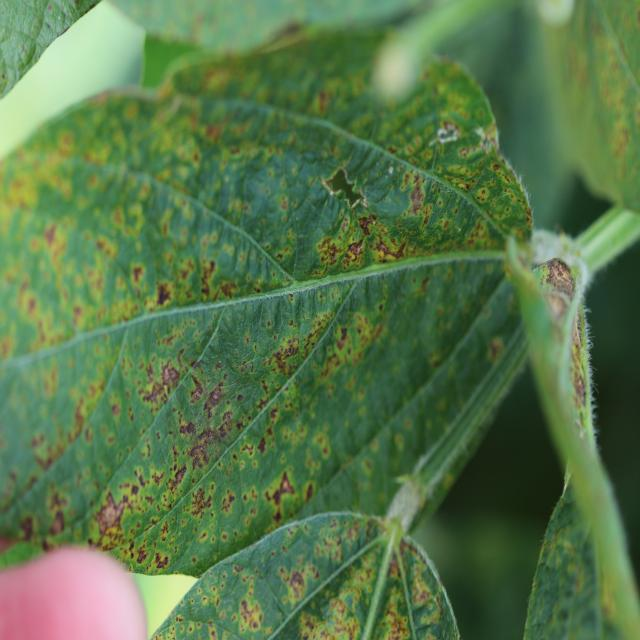Bacterial_Blight: (328, 301, 384, 373), (138, 358, 187, 415), (568, 313, 591, 425), (276, 557, 318, 615), (183, 427, 221, 472), (61, 392, 91, 448), (322, 595, 361, 638), (367, 223, 406, 262), (538, 256, 577, 295), (95, 489, 126, 538), (270, 333, 303, 373), (266, 470, 297, 512), (316, 232, 349, 270), (472, 172, 510, 204), (197, 381, 228, 420), (237, 594, 264, 633), (279, 416, 309, 450), (381, 606, 409, 640), (198, 259, 220, 301), (189, 485, 212, 517), (407, 177, 426, 214), (154, 281, 173, 308), (49, 509, 65, 536), (19, 515, 35, 541), (487, 337, 504, 361), (220, 489, 236, 514), (171, 463, 188, 486), (43, 223, 58, 247), (480, 131, 495, 152), (336, 326, 348, 349), (155, 553, 170, 570), (132, 265, 144, 286), (136, 546, 149, 565), (257, 436, 267, 454), (458, 147, 471, 159), (480, 189, 486, 197)
Soybean: (0, 32, 532, 576)
